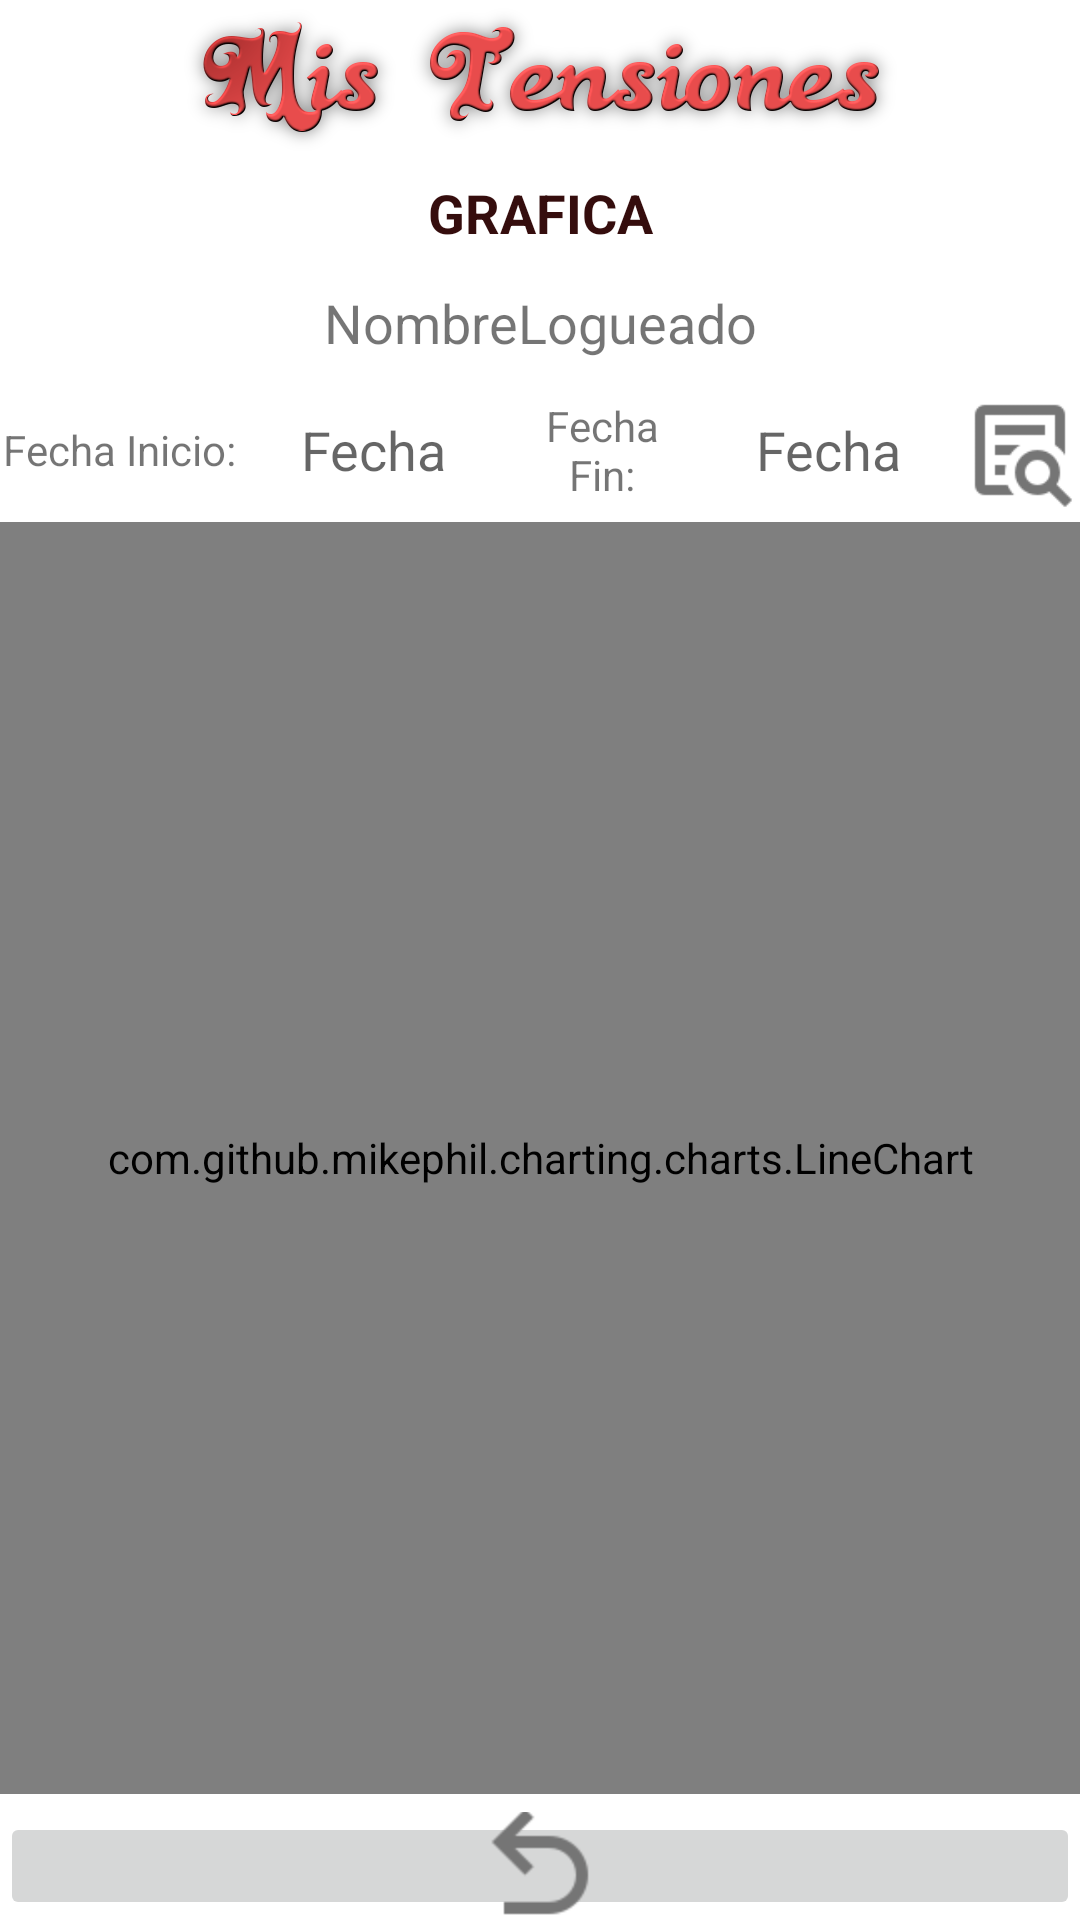

Icon bounding boxes for this 1080×1920 phone screenshot, format (x1, y1, x2, y2):
text box search: (974, 404, 1072, 507)
